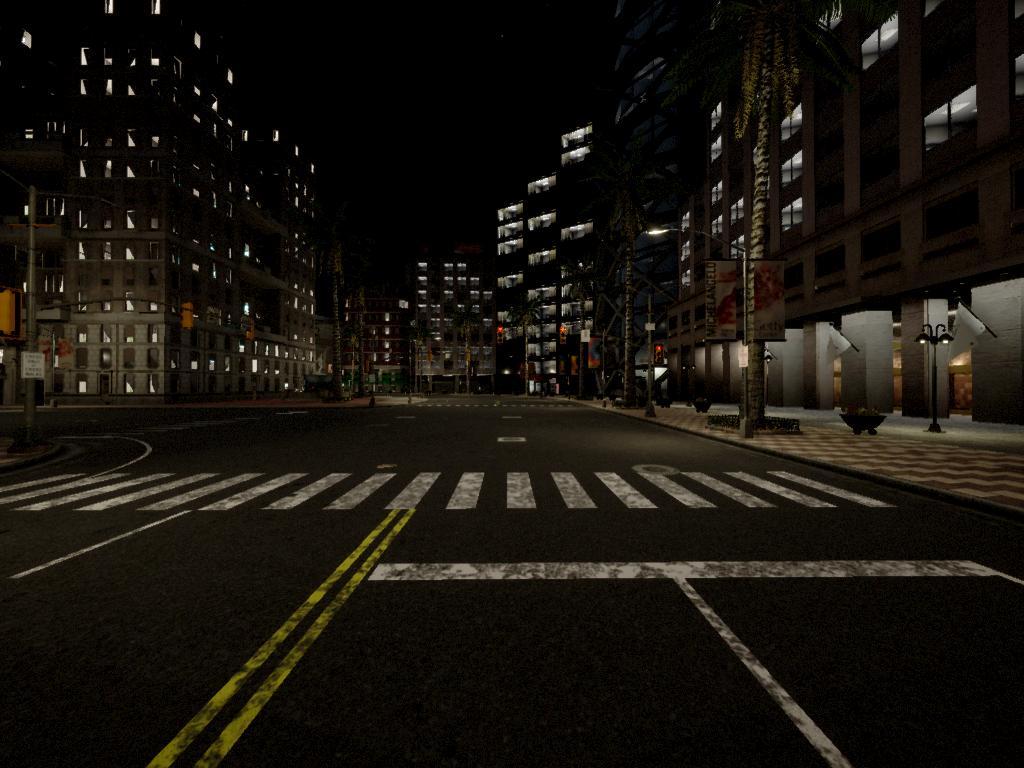traffic_light: (3, 289, 26, 340), (184, 305, 201, 333), (655, 347, 667, 364), (497, 325, 506, 346), (560, 326, 568, 347), (465, 346, 472, 363), (365, 359, 372, 374), (428, 347, 434, 364)
